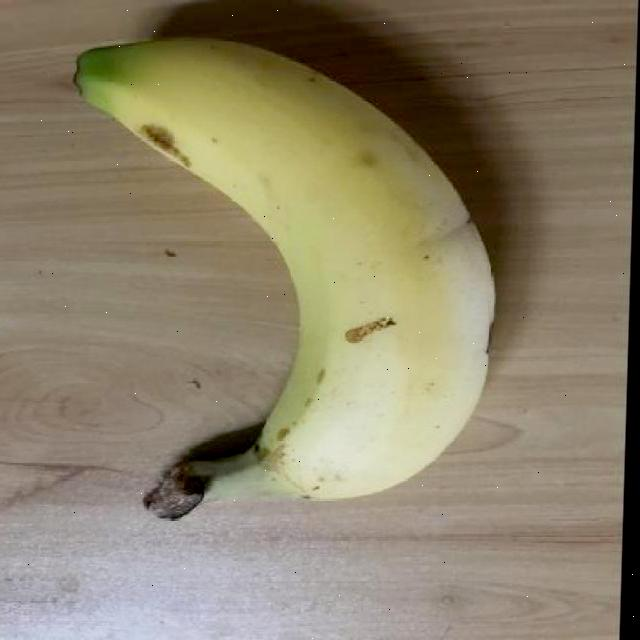banana: (56, 31, 505, 520)
